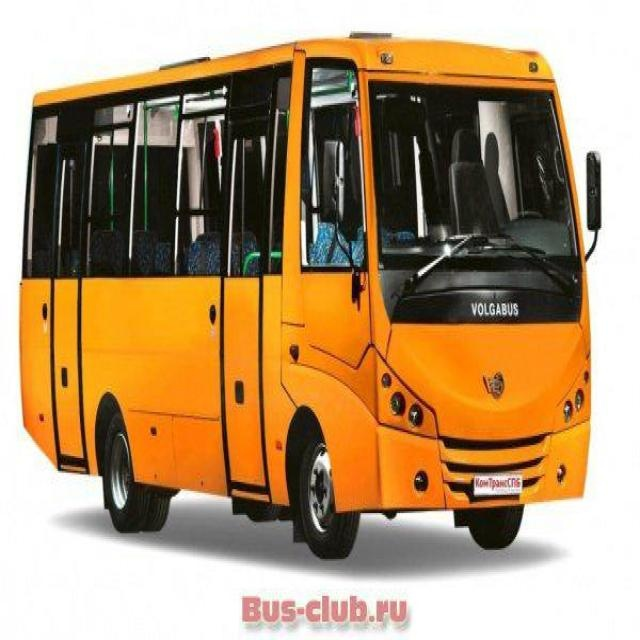Bus: (17, 22, 607, 554)
